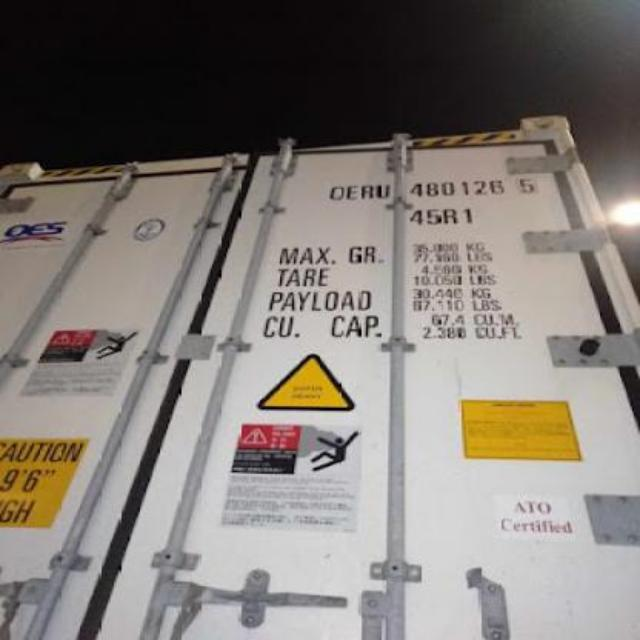0: (442, 177, 458, 201)
1: (454, 175, 472, 201)
2: (470, 176, 490, 197)
4: (408, 179, 424, 197)
5: (514, 173, 536, 197)
6: (488, 172, 506, 198)
8: (426, 178, 439, 200)
E: (346, 182, 359, 202)
O: (328, 176, 342, 204)
R: (358, 178, 376, 204)
U: (376, 177, 394, 206)
